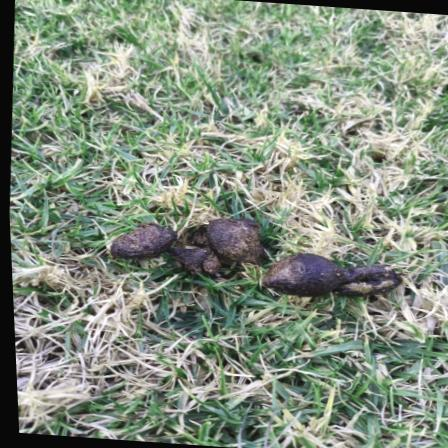dog-poop: (95, 214, 399, 310)
